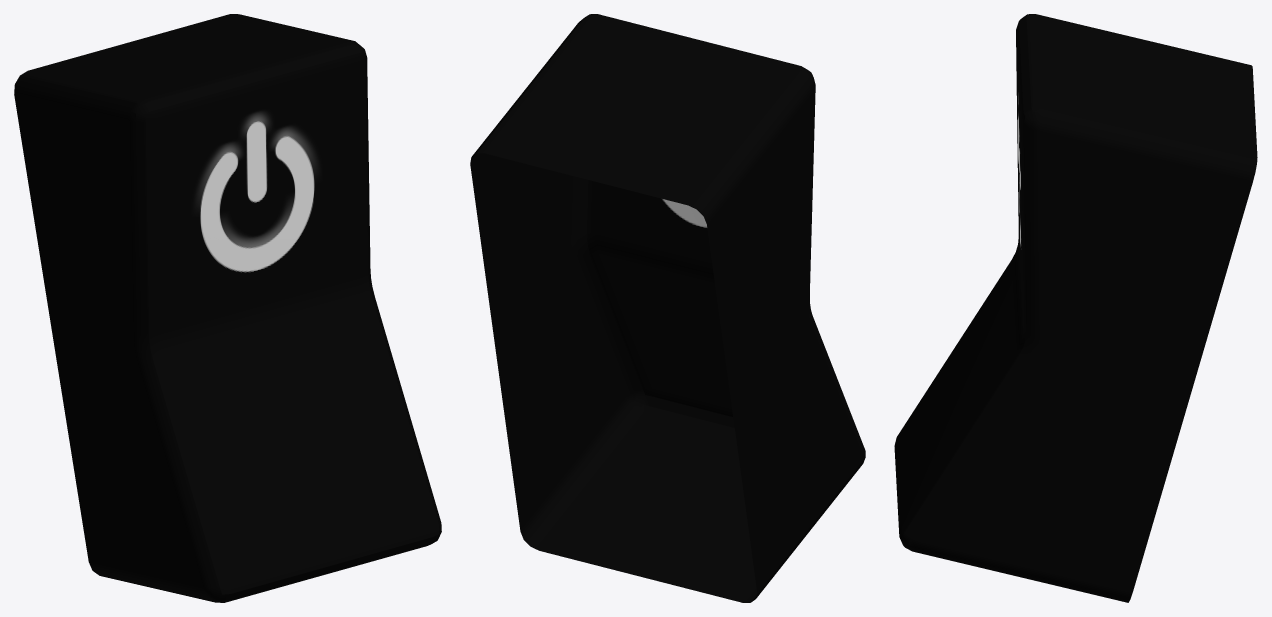
File: DeviceSwitchON.obj
The picture shows the model from 3 angles, left to right: view 1: azimuth 30°, elevation 25°; view 2: azimuth 150°, elevation 25°; view 3: azimuth 270°, elevation 25°; orthographic projection. The views are drawn at different scales.
Parts seen in each view (by area): view 1: OffSwitch; view 2: OffSwitch; view 3: OffSwitch.
Boxes of the visible parts, x1,y1,x2,y2 form: OffSwitch: (14,14,441,602); OffSwitch: (470,14,865,602); OffSwitch: (894,14,1257,602).
Size of the model in its own units: 0.776 by 1.52 by 1.01.
1 material, 1 textured.
